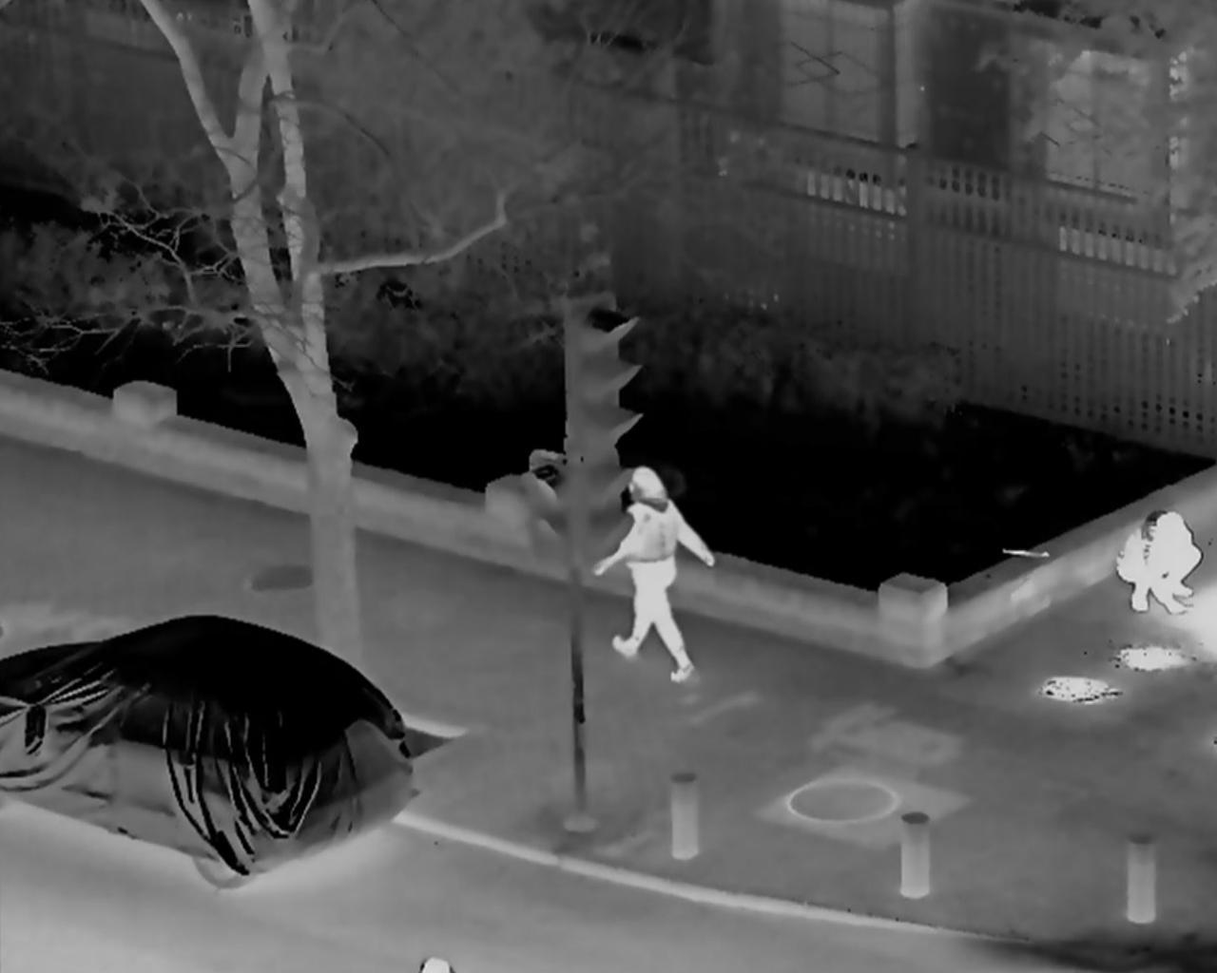person: (596, 467, 721, 679), (1119, 508, 1210, 618)
